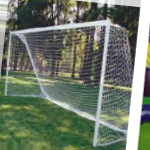goals: (3, 18, 127, 145)
